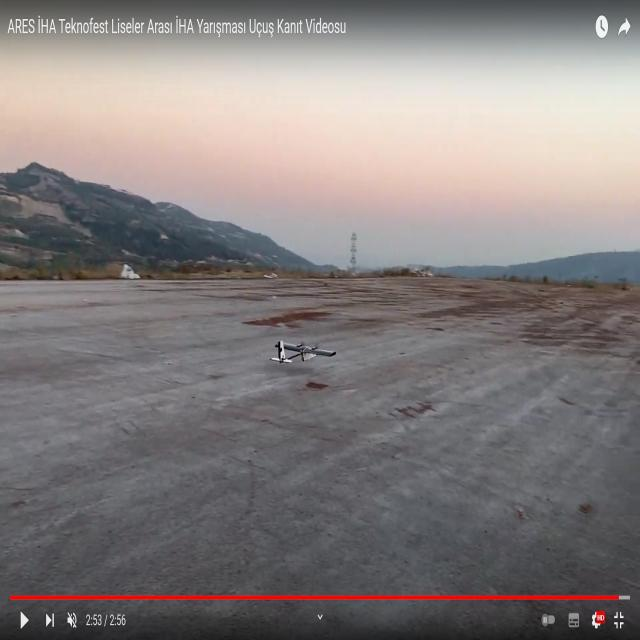iha: (276, 341, 336, 375)
